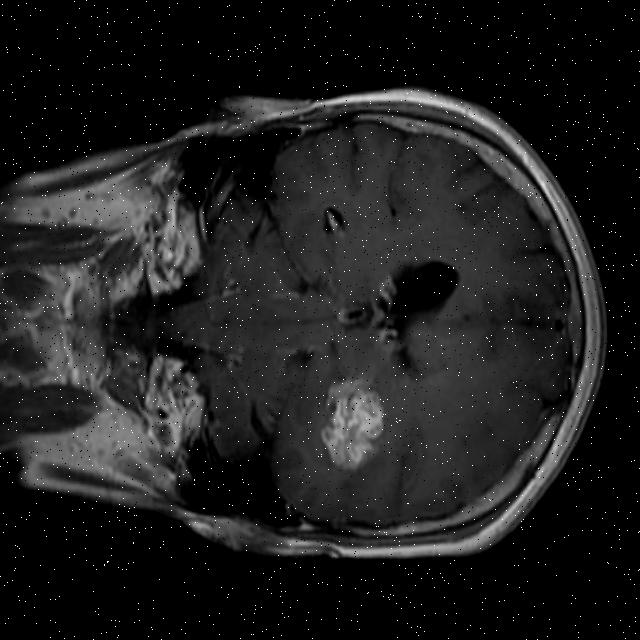Glioma: (313, 376, 388, 473)
